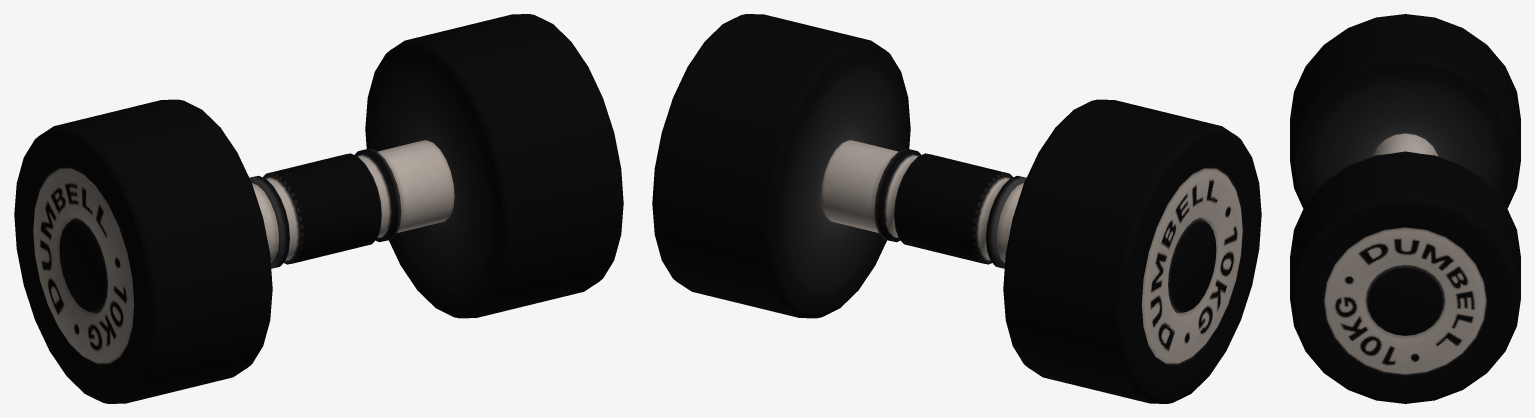
File: StackUp_Dumbell.fbx
The picture shows the model from 3 angles, left to right: view 1: azimuth 30°, elevation 25°; view 2: azimuth 150°, elevation 25°; view 3: azimuth 270°, elevation 25°; orthographic projection. The views are drawn at different scales.
Parts seen in each view (by area): view 1: StackUp_Dumbell; view 2: StackUp_Dumbell; view 3: StackUp_Dumbell.
Boxes of the visible parts, left/top/right/bottom form: StackUp_Dumbell: left=14, top=14, right=623, bottom=403; StackUp_Dumbell: left=652, top=14, right=1261, bottom=403; StackUp_Dumbell: left=1290, top=14, right=1520, bottom=403.
Size of the model in its own units: 20.52 by 10.78 by 10.78.
